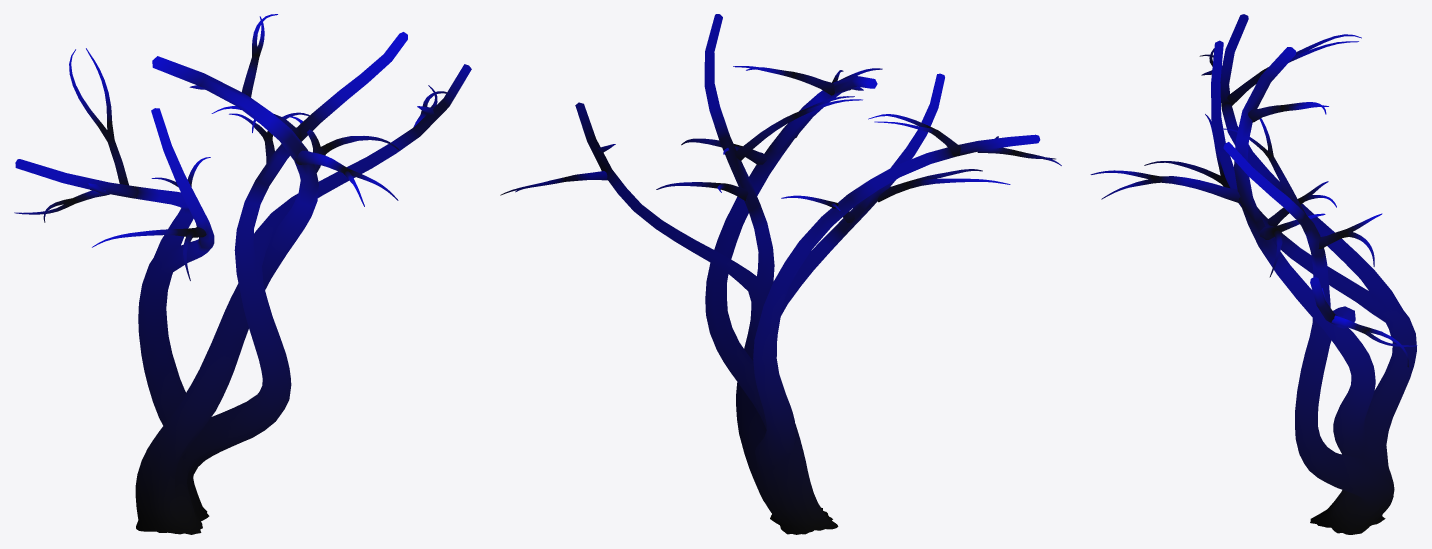
The model's file is Sakura Trunk 002.fbx.
3 renders of one model, left to right at view 1: azimuth 30°, elevation 25°; view 2: azimuth 150°, elevation 25°; view 3: azimuth 270°, elevation 25°, orthographic. The views are drawn at different scales.
Visible parts, largest first — view 1: Sakura_Trunk_002_LOD0; view 2: Sakura_Trunk_002_LOD0; view 3: Sakura_Trunk_002_LOD0.
Part boxes in pixels (x1,y1,x2,y2): Sakura_Trunk_002_LOD0: [14, 14, 471, 534]; Sakura_Trunk_002_LOD0: [500, 14, 1061, 534]; Sakura_Trunk_002_LOD0: [1090, 14, 1417, 534].
Size of what is drawn, in the model's own units: 746 by 652 by 428.
